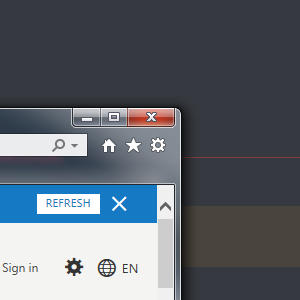close: (127, 108, 174, 128)
